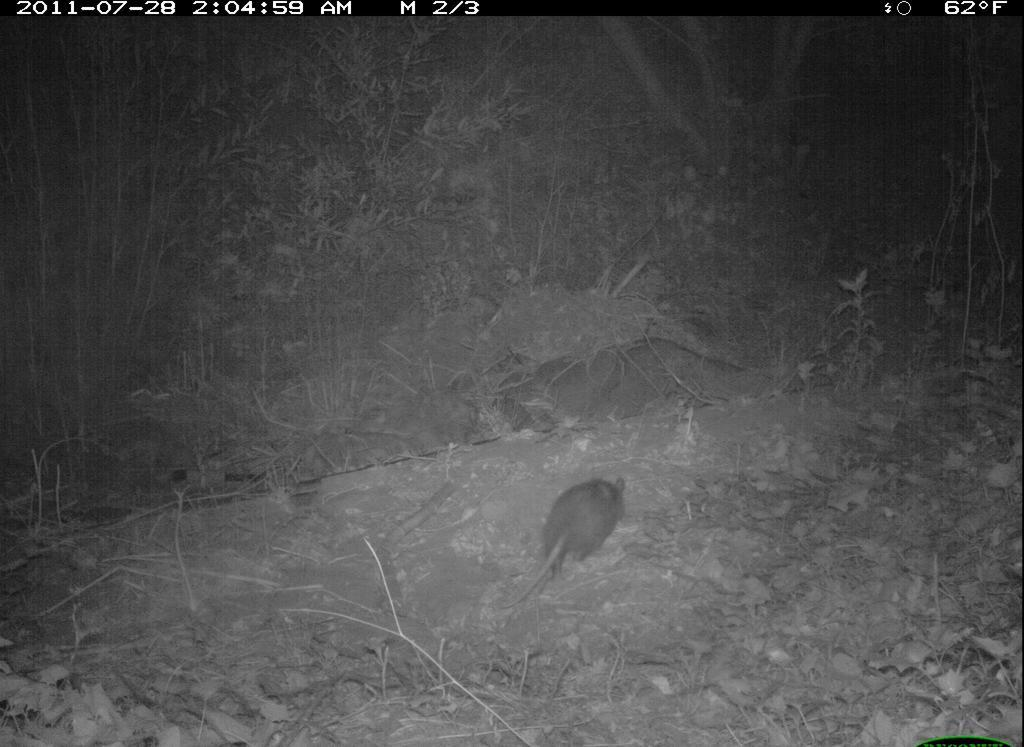opossum: (504, 471, 642, 604)
